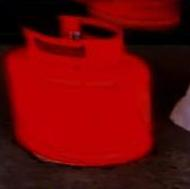cylinder: (1, 1, 190, 189)
